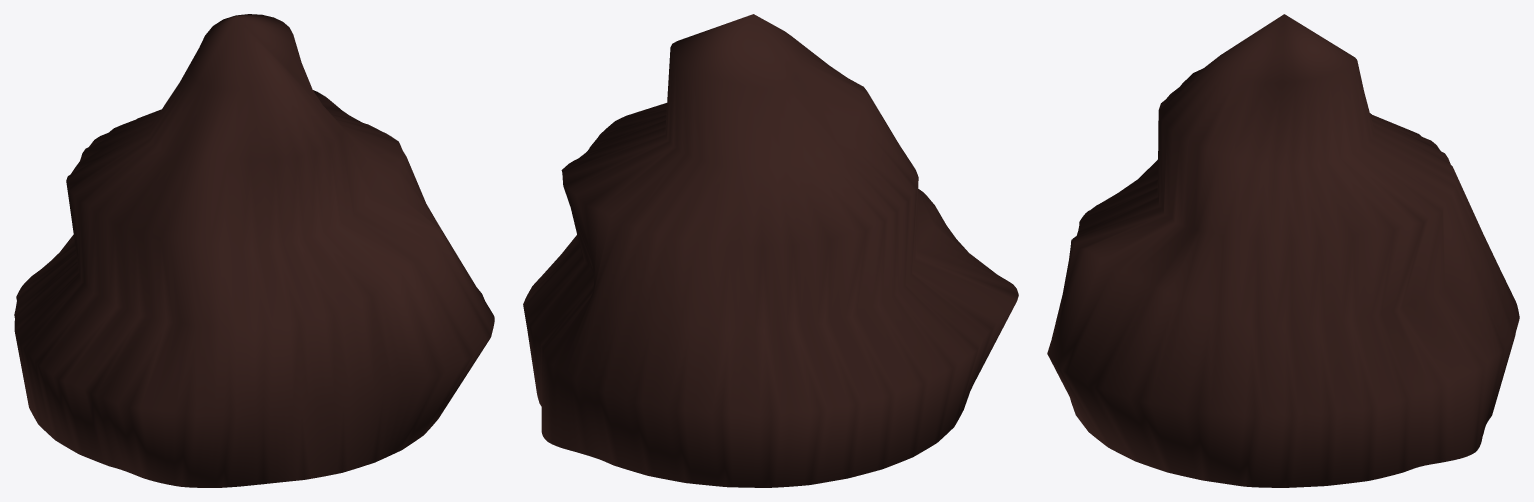
File: og_poop.glb
3 views of the same model, side by side, from view 1: azimuth 30°, elevation 25°; view 2: azimuth 150°, elevation 25°; view 3: azimuth 270°, elevation 25° (orthographic).
Visible parts, largest first — view 1: Cone; view 2: Cone; view 3: Cone.
Part boxes in pixels (x1,y1,x2,y2): Cone: (14, 14, 494, 487); Cone: (523, 14, 1018, 487); Cone: (1047, 14, 1519, 487).
Size of the model in its own units: 2.24 by 2.02 by 2.23.
